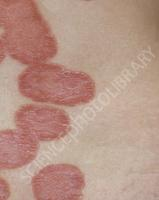plaque psoriasis: (0, 0, 60, 71), (0, 164, 96, 200), (16, 67, 100, 108), (0, 127, 37, 200), (14, 105, 72, 143), (114, 0, 141, 5)
